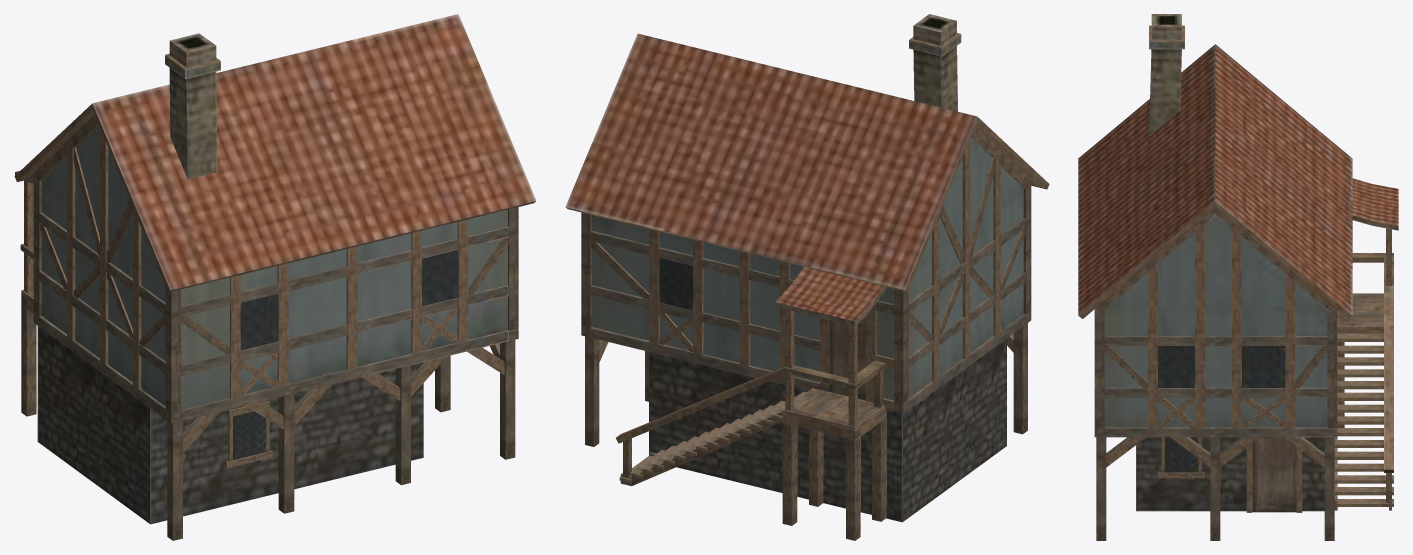
The model's file is medieval_house_game.glb.
3 renders of one model, left to right at view 1: azimuth 30°, elevation 25°; view 2: azimuth 150°, elevation 25°; view 3: azimuth 270°, elevation 25°, orthographic. The views are drawn at different scales.
Parts seen in each view (by area): view 1: Object_2; view 2: Object_2; view 3: Object_2.
Part boxes in pixels (<box>): Object_2: <box>14,14,536,540</box>; Object_2: <box>565,14,1049,540</box>; Object_2: <box>1078,14,1398,540</box>.
Size of the model in its own units: 9.37 by 11.12 by 8.08.
1 material, 1 textured.
